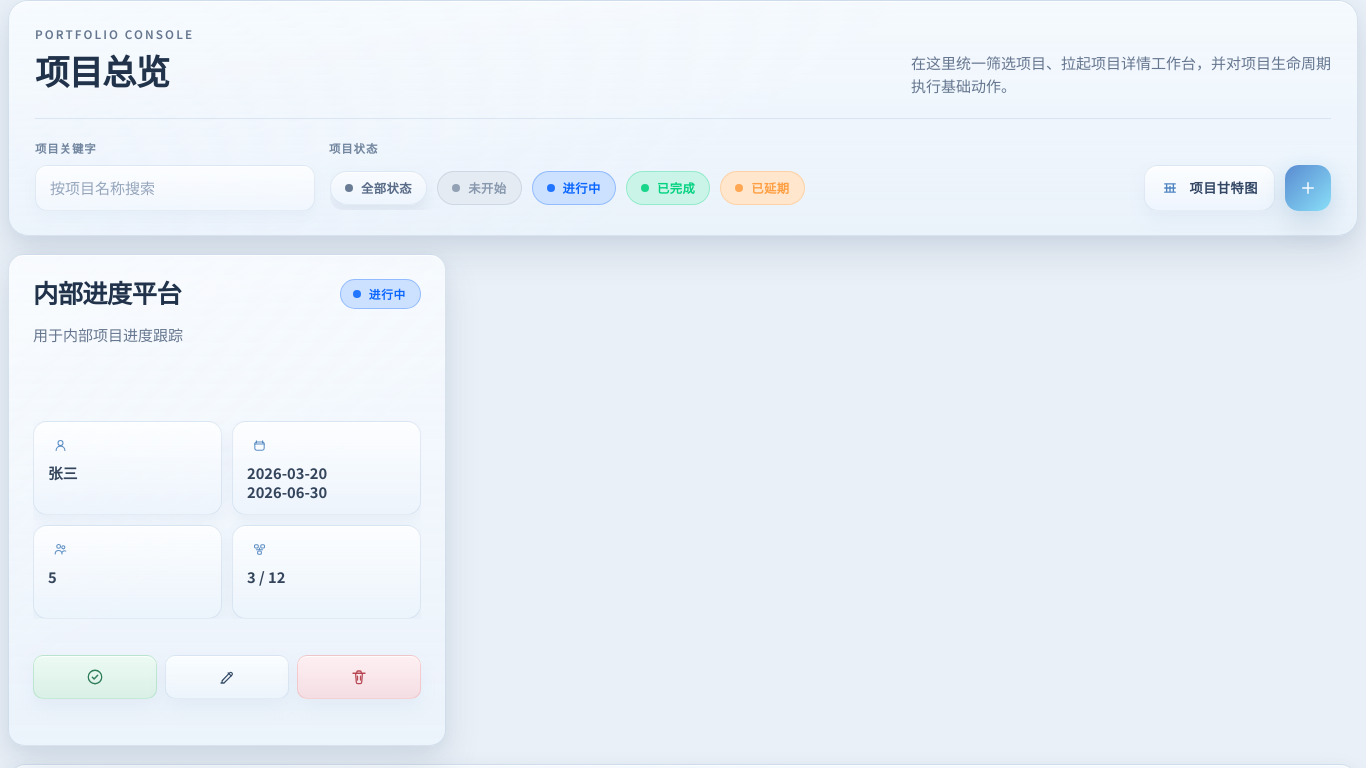
Test: ProjectListView › locks page scrolling while the project gantt dialog is open and restores it after closing
Check: the heading "内部进度平台" is shown, box [33, 274, 181, 310]
Click the button with aria-label "打开项目甘特图" at point(1210, 188), box [1144, 165, 1275, 211]
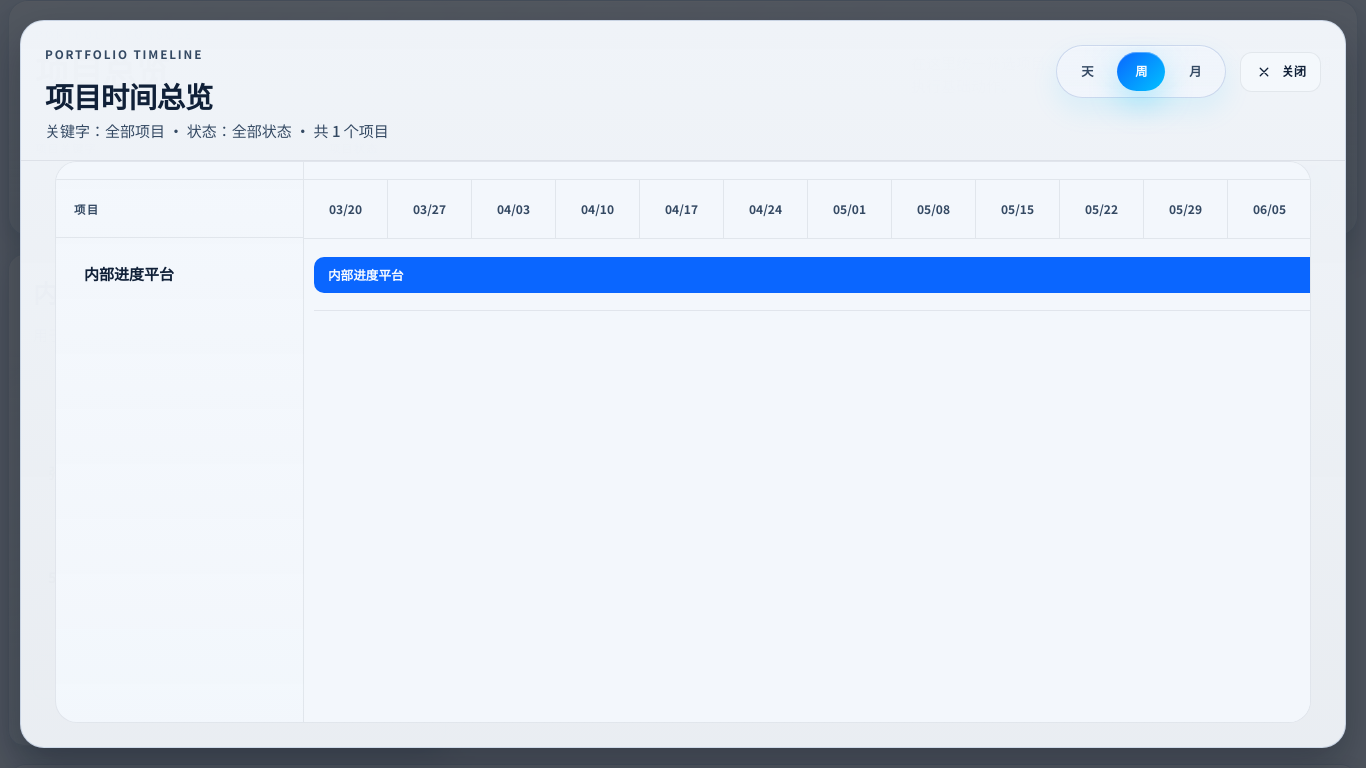
Check: the heading "项目时间总览" is shown, box [45, 76, 213, 116]
Click the button with aria-label "关闭项目甘特图" at point(1281, 72), box [1240, 52, 1321, 92]
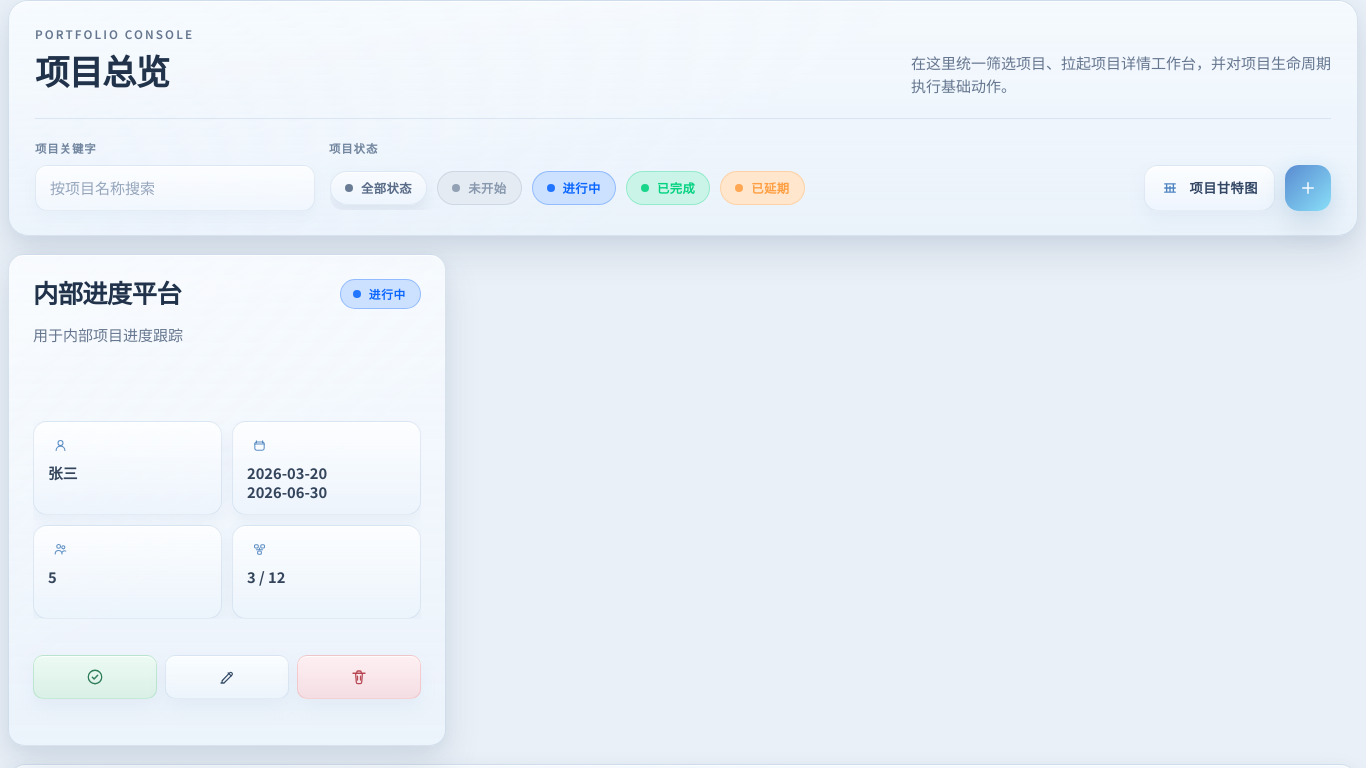
Check: the heading "项目时间总览" is gone
